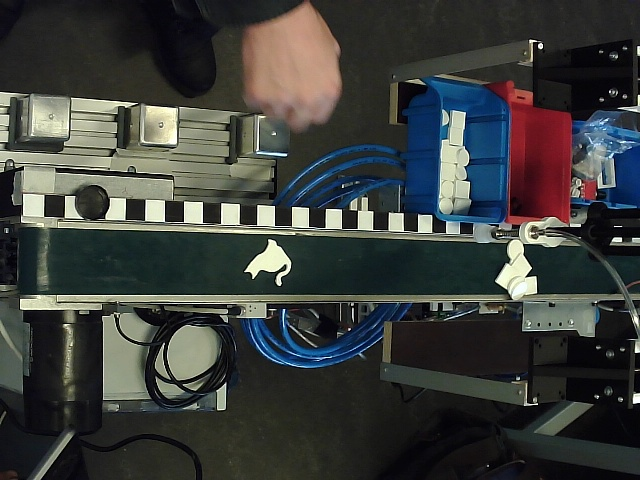cat: (244, 239, 293, 287)
